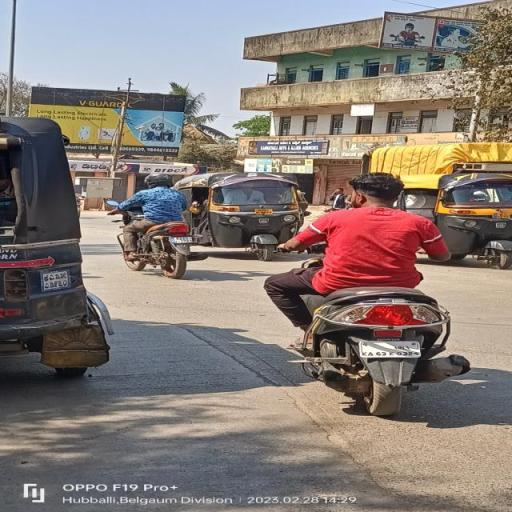bike: (262, 168, 479, 418)
numberplate: (362, 339, 420, 357)
withouthelmet: (349, 172, 400, 206)
